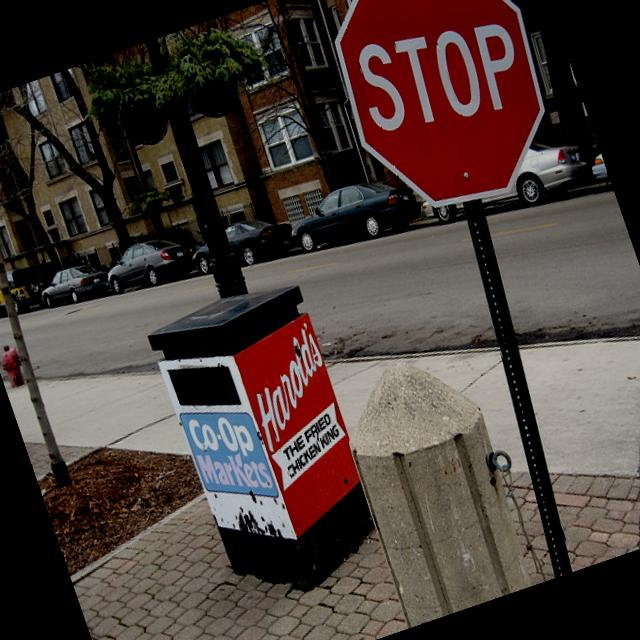Vehicle: (413, 126, 596, 241), (279, 165, 428, 268), (184, 205, 299, 283), (98, 227, 200, 300), (34, 254, 116, 314), (0, 260, 51, 322), (582, 141, 614, 196)
